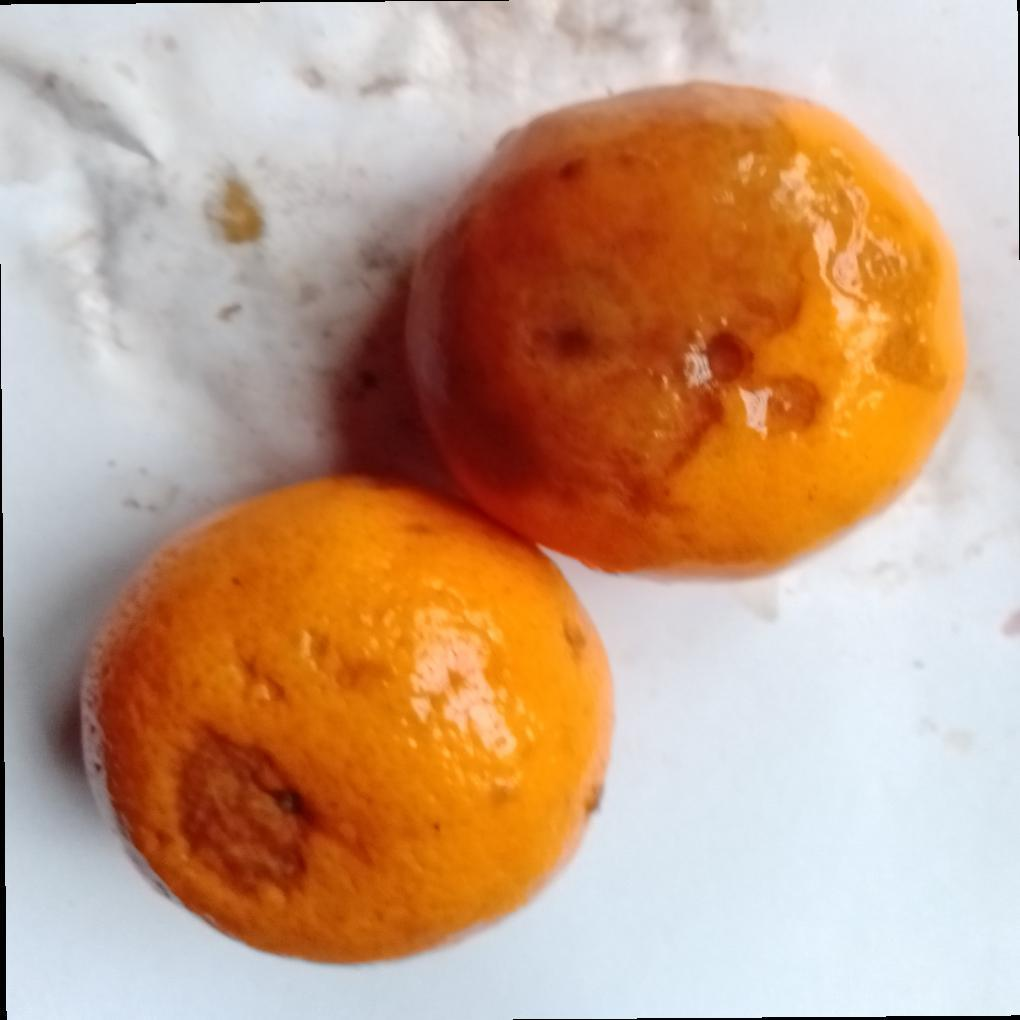FreshOrange: (76, 81, 970, 970), (82, 181, 846, 920)
